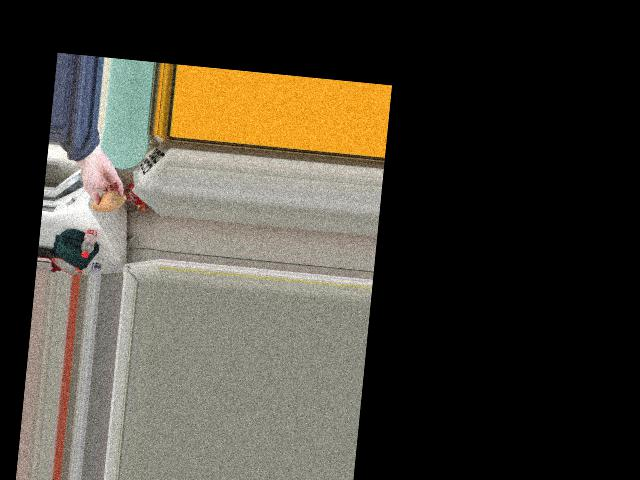sweet_potato: (92, 185, 123, 214)
